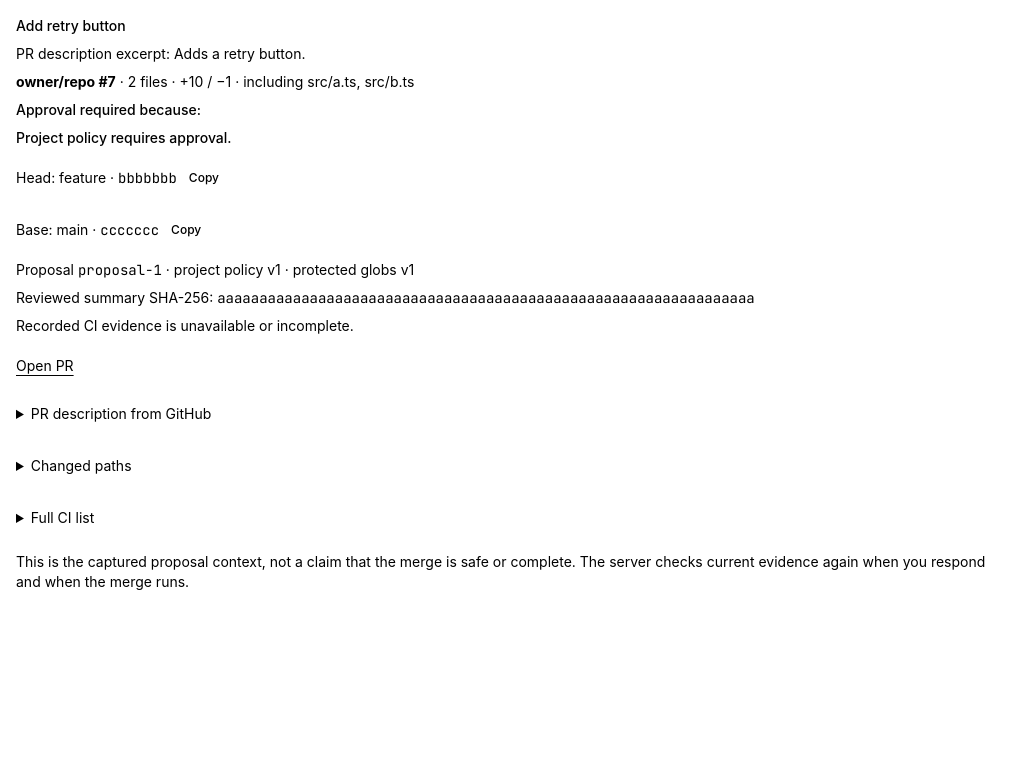
detail paging › loads a section when it is first opened, not before
The width and height of the screenshot is (1024, 768).
Click the heading "Changed paths".
click(81, 466)  # box x1=31 y1=457 x2=132 y2=474
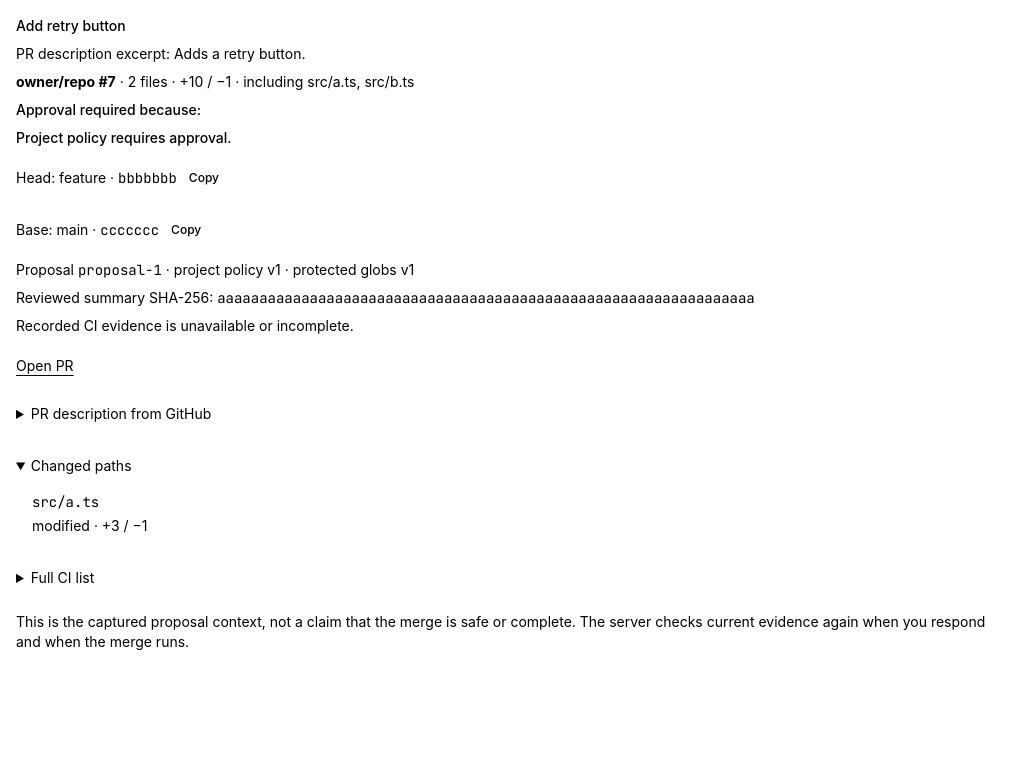
Expected: the text "src/a.ts" is shown, x1=32 y1=493 x2=99 y2=511
